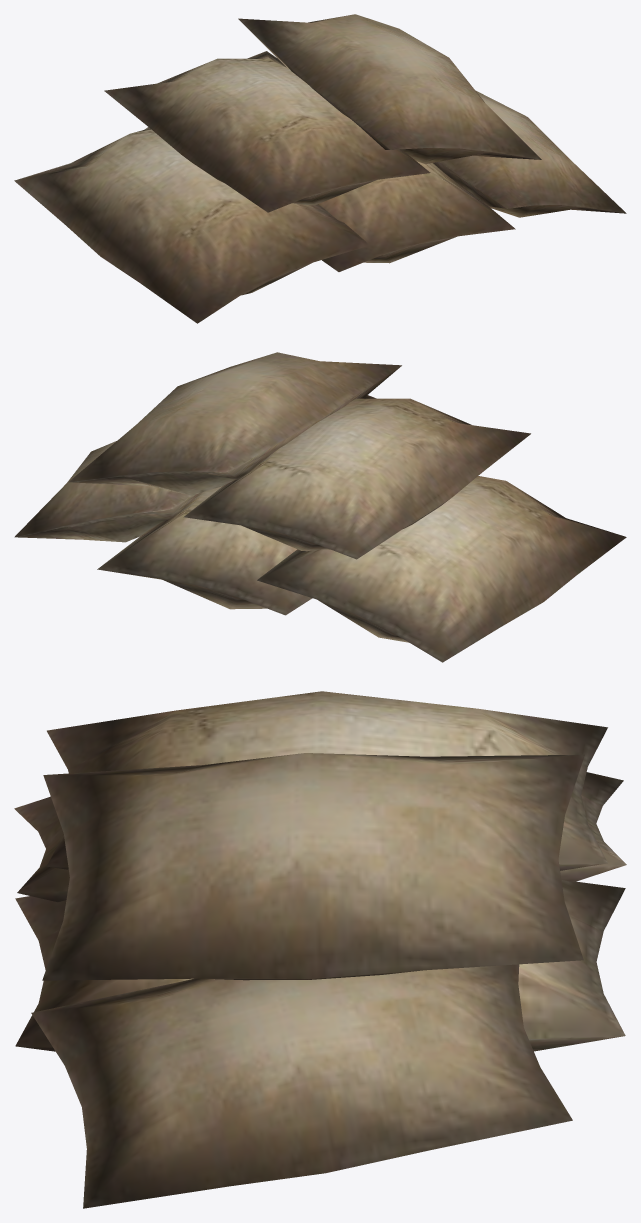
File: alex_sack02.glb
The picture shows the model from 3 angles, top to bottom: view 1: azimuth 30°, elevation 25°; view 2: azimuth 150°, elevation 25°; view 3: azimuth 270°, elevation 25°; orthographic projection. The views are drawn at different scales.
Visible parts, largest first — view 1: alex_sack02; view 2: alex_sack02; view 3: alex_sack02.
Part boxes in pixels (x1,y1,x2,y2): alex_sack02: [14, 14, 626, 323]; alex_sack02: [14, 352, 626, 662]; alex_sack02: [14, 691, 626, 1208].
Size of the model in its own units: 3.06 by 1.16 by 2.06.
1 material, 1 textured.
